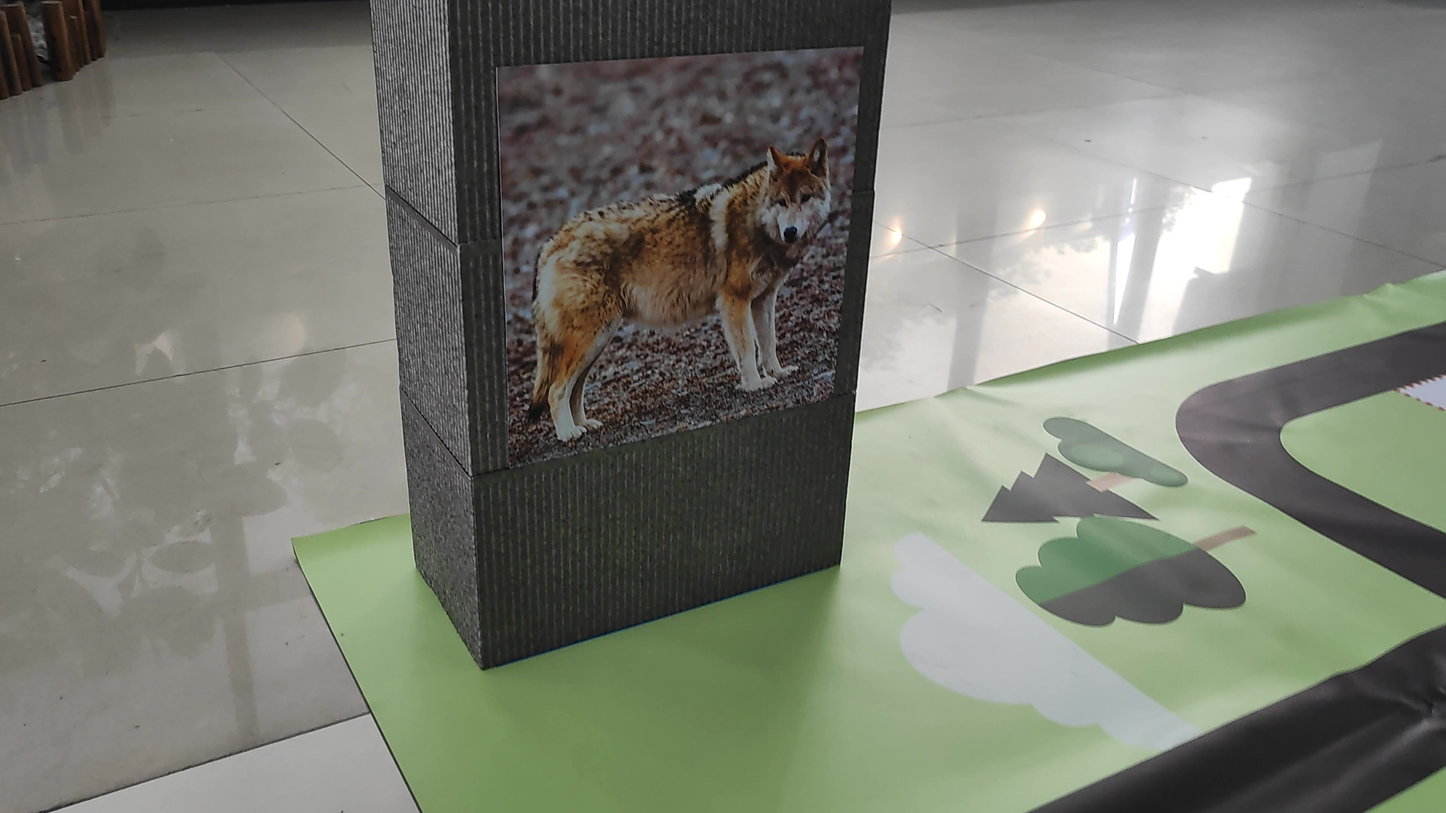wolf: (514, 118, 848, 444)
